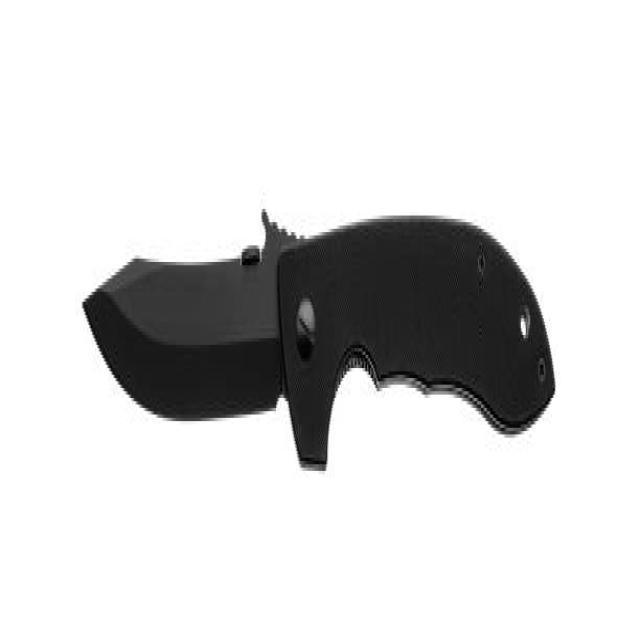knife: (70, 185, 565, 492)
